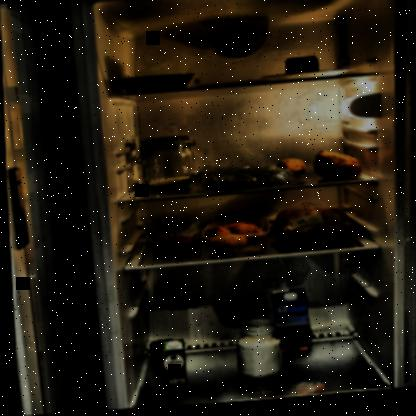cheese: (283, 59, 320, 81)
chicken: (266, 205, 357, 250)
corn: (147, 340, 177, 370)
green_beans: (187, 164, 310, 198)
heavy_cream: (158, 340, 184, 388)
milk: (269, 289, 309, 360)
potato: (198, 220, 268, 258)
shrimp: (149, 235, 201, 255)
sweet_potato: (306, 152, 362, 185), (272, 161, 304, 182)
